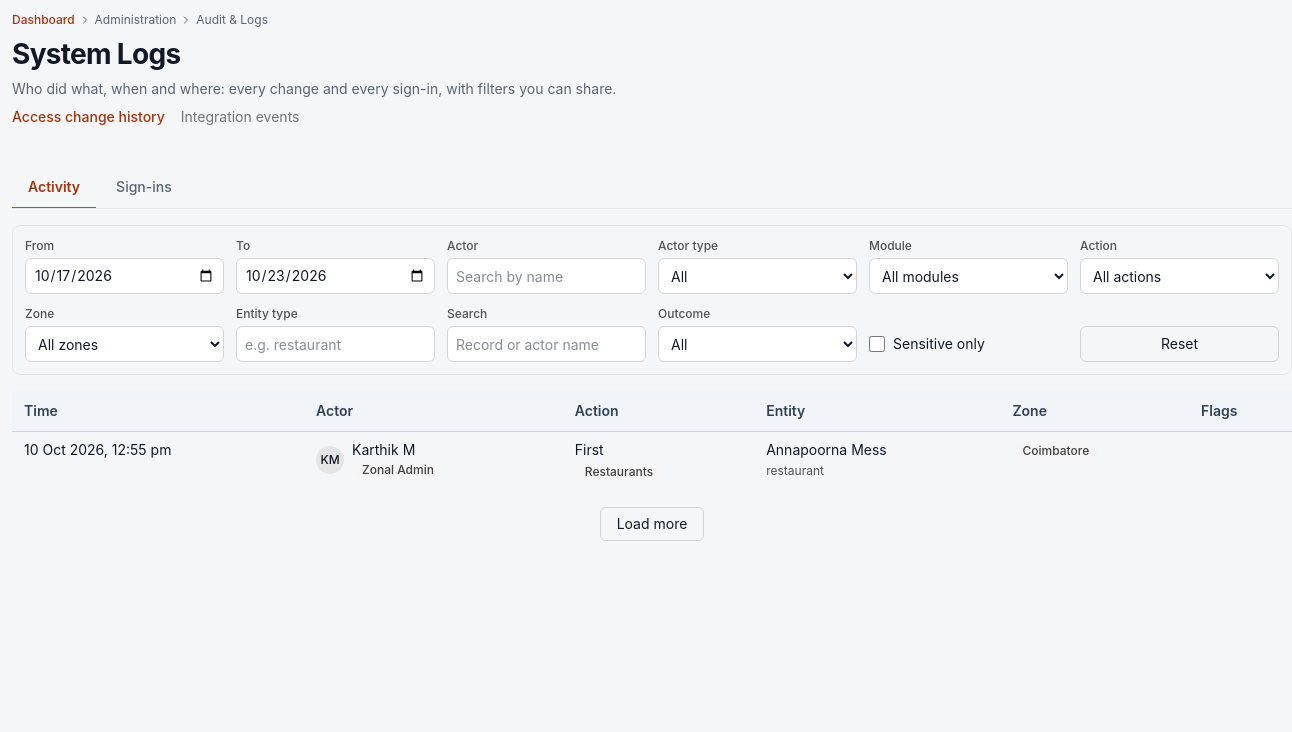
Test: table behaviour › "Load more" sends the cursor, appends rows, and disappears on the last page
Click the button "Load more". click: (652, 524)
box: [600, 507, 704, 541]
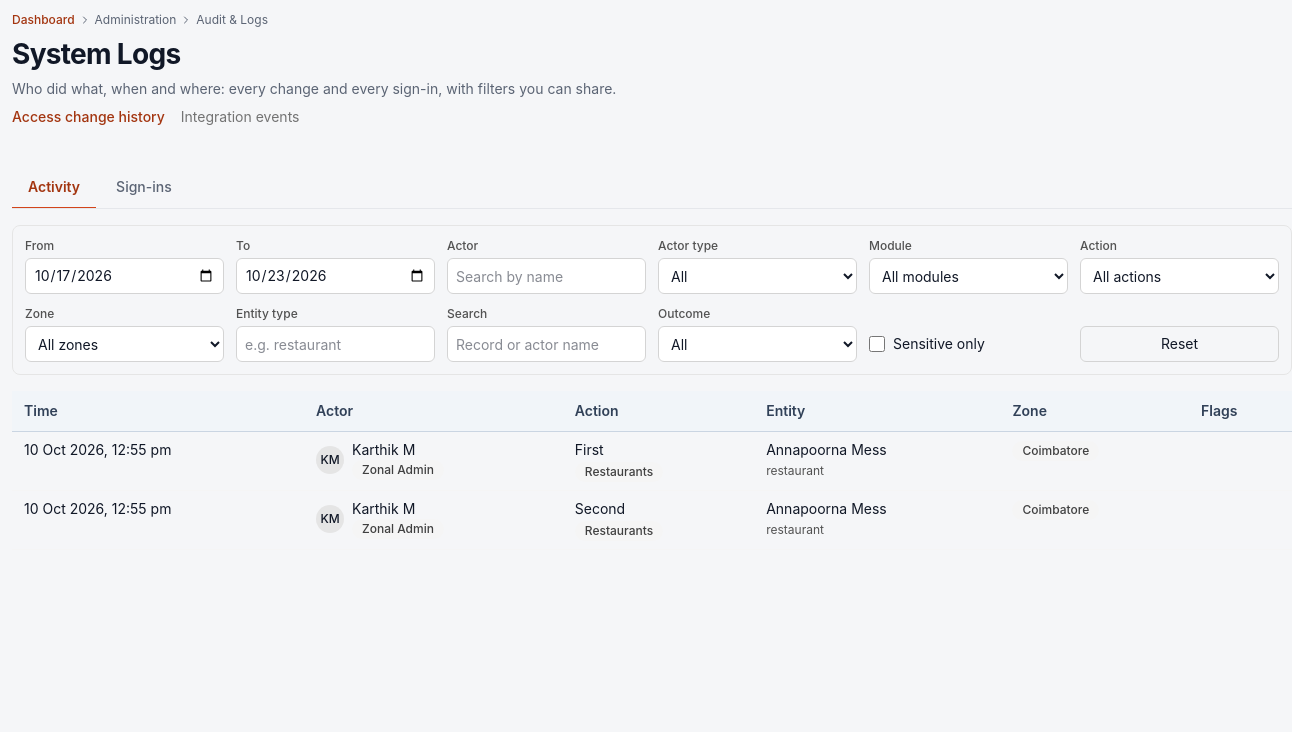
Check: the text "First" is shown, box [575, 441, 604, 458]
Check: the text "Second" is shown, box [575, 500, 625, 517]
Check: the button "Load more" is gone
